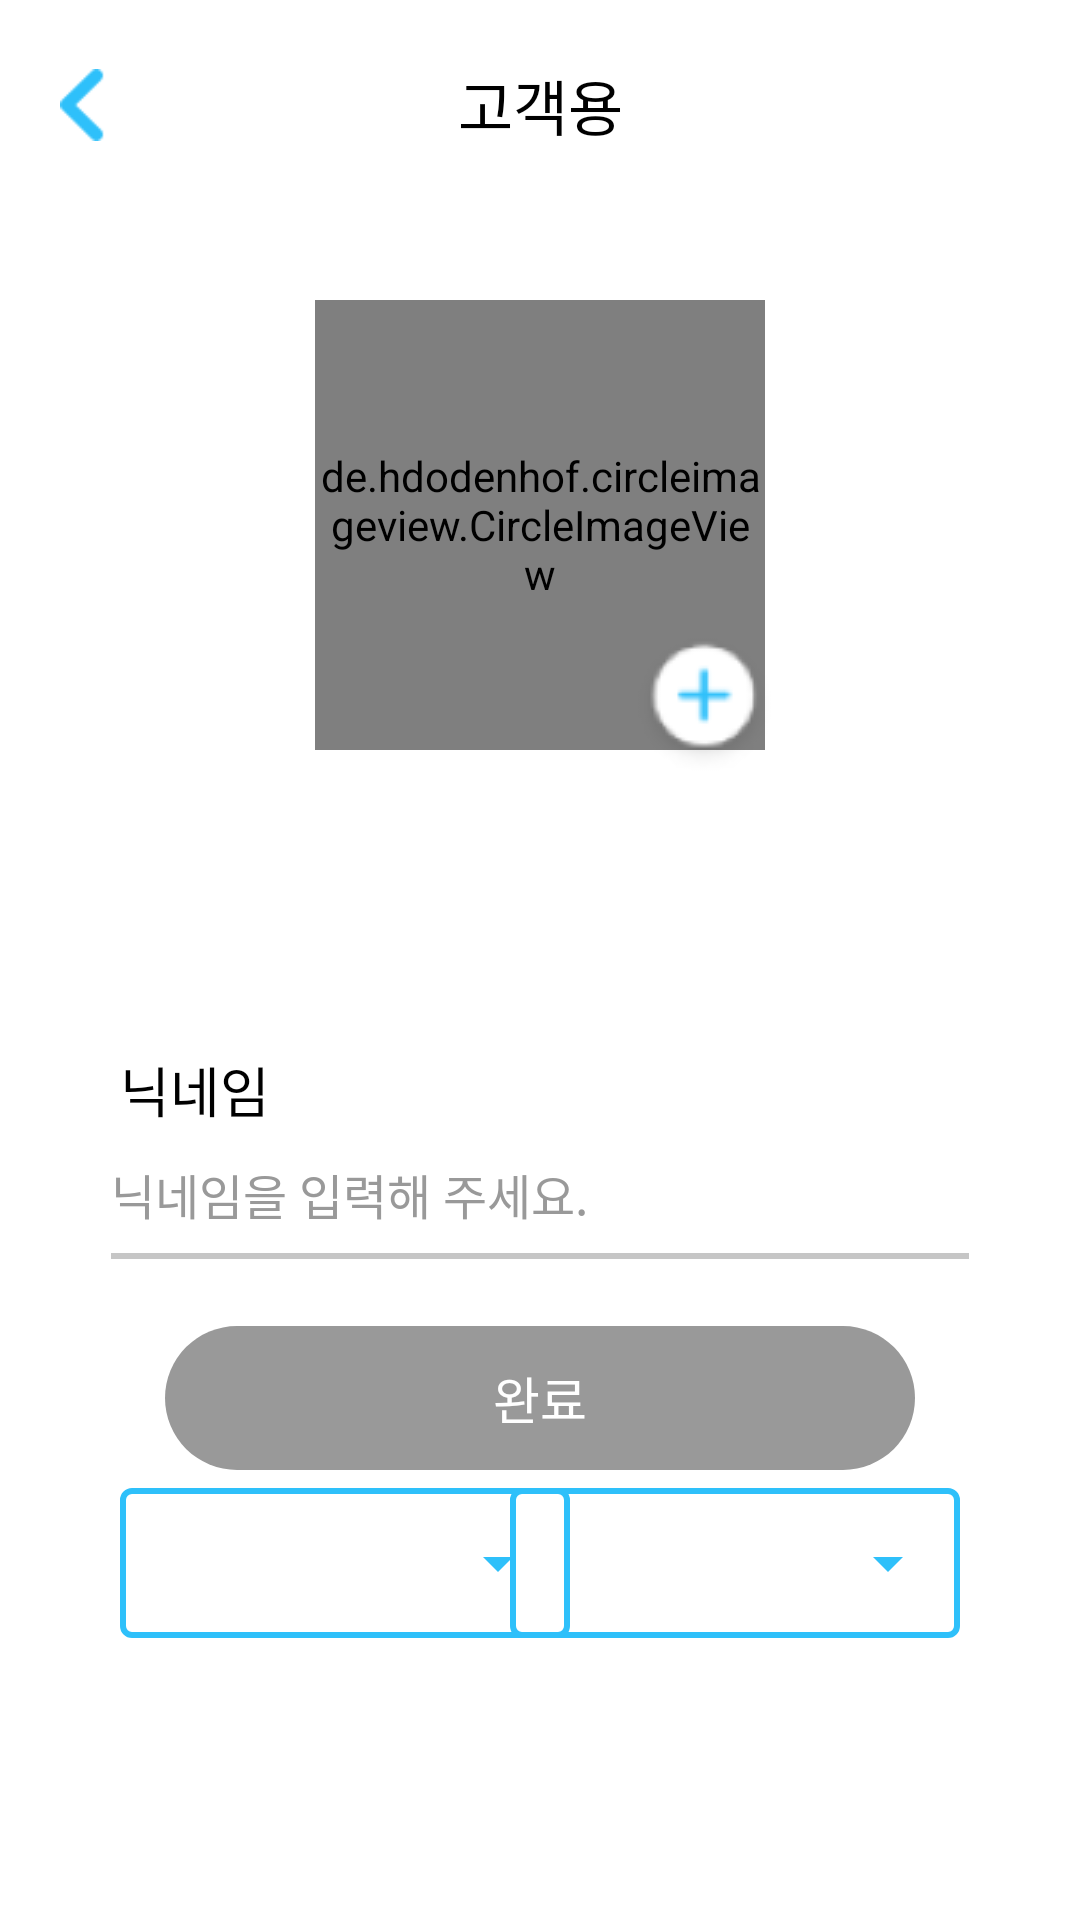

Icon click points for this 1080 x 1920 phone screenshot, format (x=x, y=y):
back: (x=82, y=105)
profile add: (x=705, y=705)
